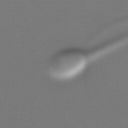abnormal: (88, 29, 128, 71)
